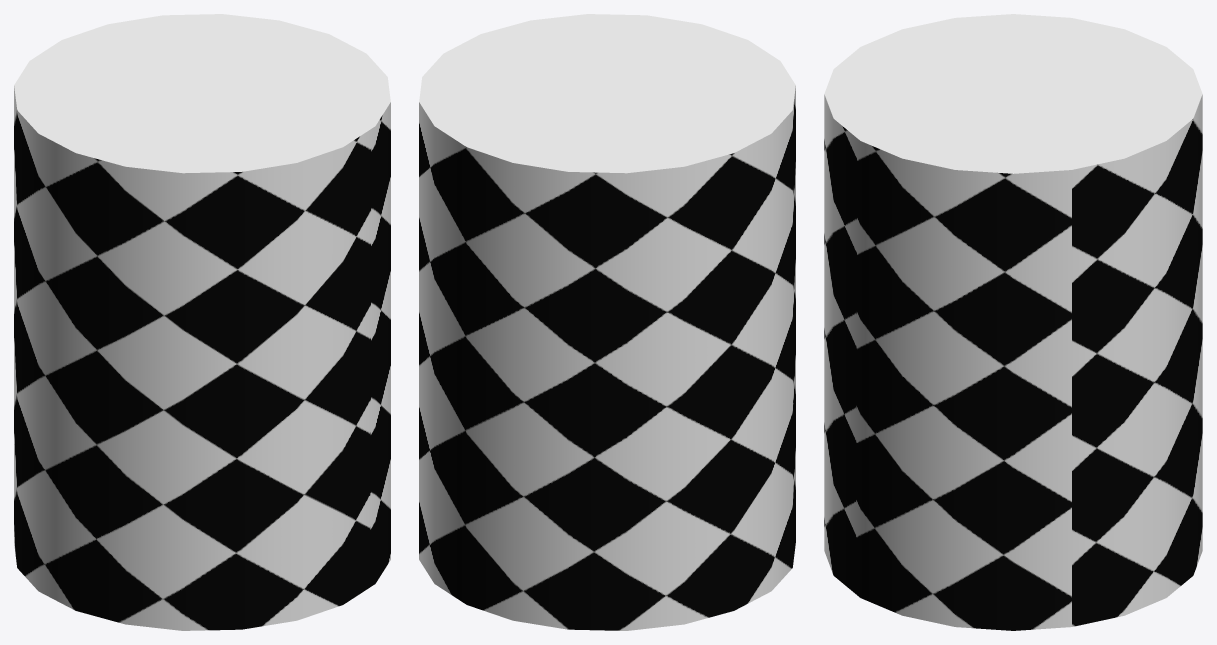
The model's file is checkbase.fbx.
3 renders of one model, left to right at view 1: azimuth 30°, elevation 25°; view 2: azimuth 150°, elevation 25°; view 3: azimuth 270°, elevation 25°, orthographic.
Parts seen in each view (by area): view 1: pCylinder3; view 2: pCylinder3; view 3: pCylinder3.
Part boxes in pixels (x1,y1,x2,y2): pCylinder3: [14, 14, 390, 630]; pCylinder3: [419, 14, 795, 630]; pCylinder3: [824, 14, 1202, 630].
Size of the model in its own units: 6 by 8 by 6.
Materials: 1 (1 with a texture image).
